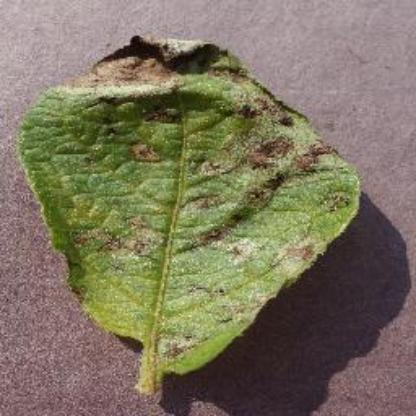Late-Blight: (14, 28, 370, 406)
